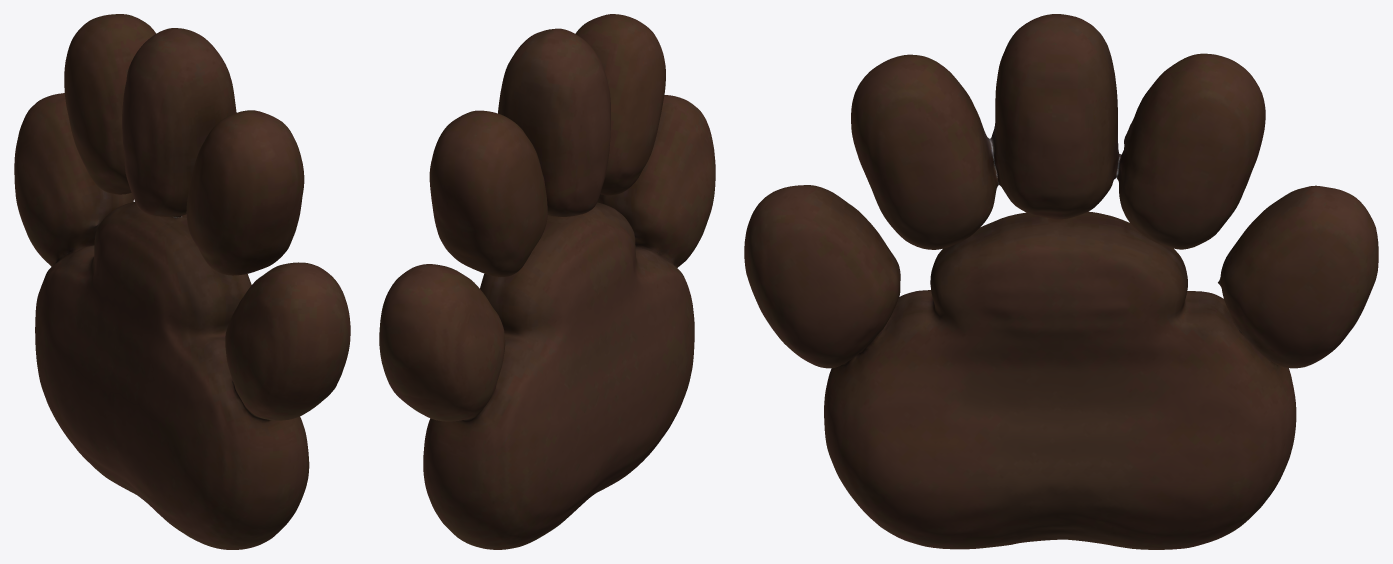
File: TeddyBearPaw.fbx
The picture shows the model from 3 angles, left to right: view 1: azimuth 30°, elevation 25°; view 2: azimuth 150°, elevation 25°; view 3: azimuth 270°, elevation 25°; orthographic projection. The views are drawn at different scales.
Parts seen in each view (by area): view 1: high_poly; view 2: high_poly; view 3: high_poly.
Boxes of the visible parts, x1,y1,x2,y2 form: high_poly: (14, 14, 350, 549); high_poly: (379, 14, 715, 549); high_poly: (744, 14, 1378, 549).
Bounding box in the file's own units: 24.42 × 91.79 × 100.
